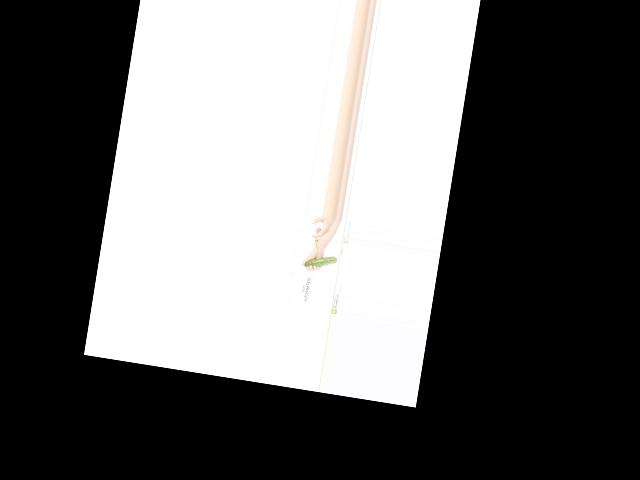cucumber: (304, 252, 338, 271)
